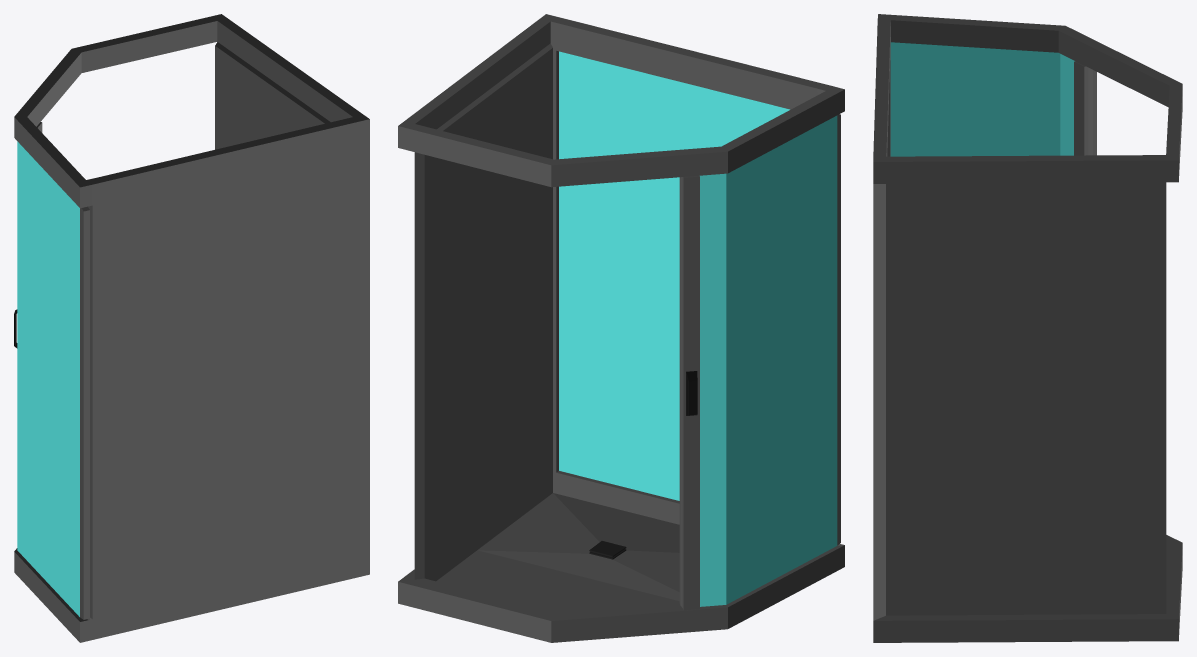
Rendered from Shower Stall.fbx.
The picture shows the model from 3 angles, left to right: view 1: azimuth 30°, elevation 25°; view 2: azimuth 150°, elevation 25°; view 3: azimuth 270°, elevation 25°; orthographic projection. The views are drawn at different scales.
Visible parts, largest first — view 1: Node 0; view 2: Node 0; view 3: Node 0.
Part boxes in pixels (x1,y1,x2,y2): Node 0: [14, 14, 369, 642]; Node 0: [398, 14, 844, 642]; Node 0: [873, 14, 1182, 642].
Bounding box in the file's own units: 1.81 × 3.11 × 2.05.
